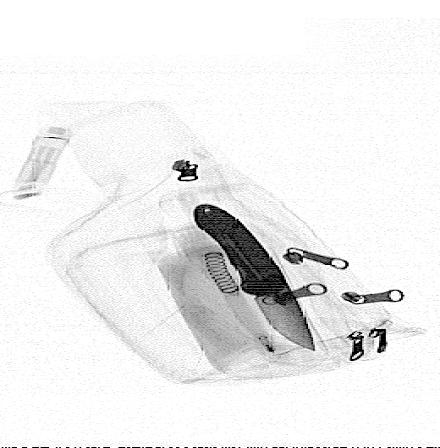Knife: (192, 203, 315, 353)
